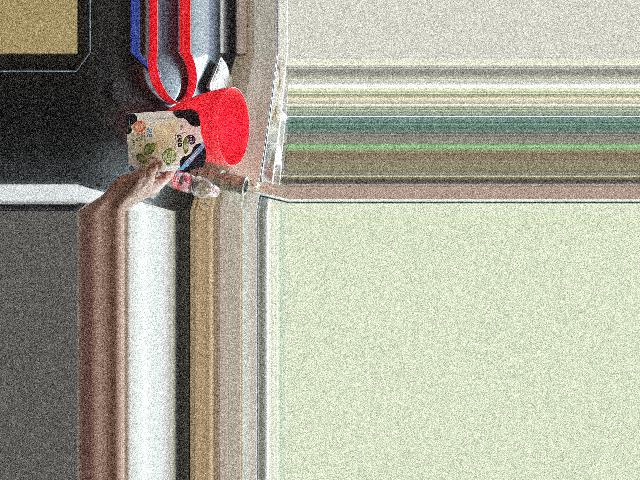cheese: (132, 109, 206, 186)
